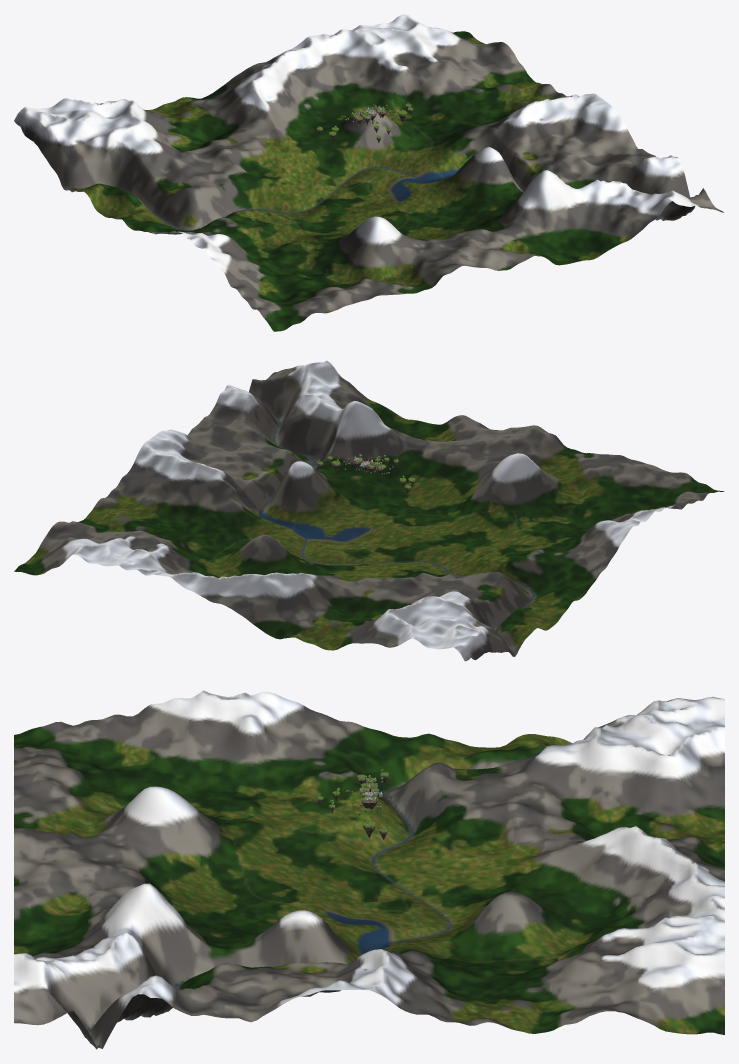
File: broken_stair.glb
3 views of the same model, one above another, from view 1: azimuth 30°, elevation 25°; view 2: azimuth 150°, elevation 25°; view 3: azimuth 270°, elevation 25° (orthographic). The views are drawn at different scales.
Visible parts, largest first — view 1: Vista world below; view 2: Vista world below; view 3: Vista world below, Far islands.
Boxes of the visible parts, x1,y1,x2,y2 form: Vista world below: [14, 14, 723, 331]; Vista world below: [14, 360, 724, 661]; Vista world below: [14, 690, 724, 1049]; Far islands: [316, 772, 397, 839].
Size of the model in its own units: 440 by 82.99 by 440.
Materials: 37 (37 with a texture image).
